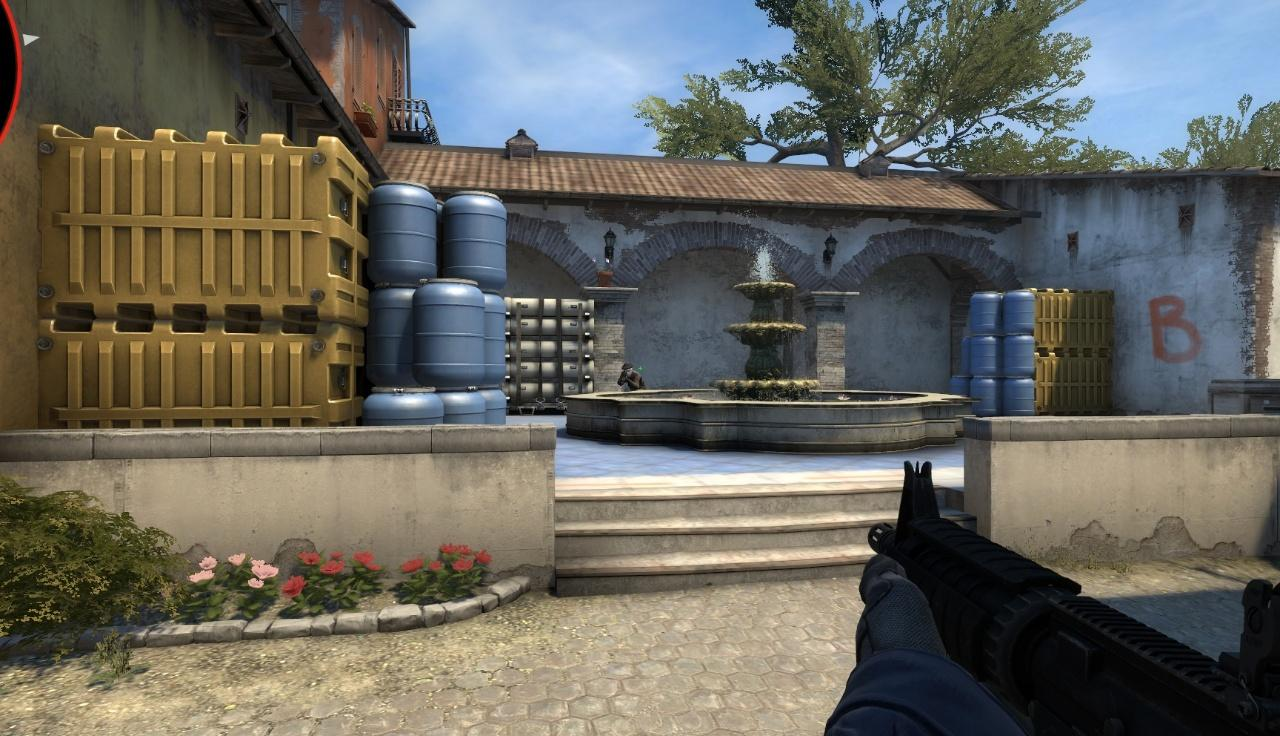rifle: (856, 463, 1280, 733)
tt: (616, 363, 646, 391)
tthead: (622, 363, 633, 376)
